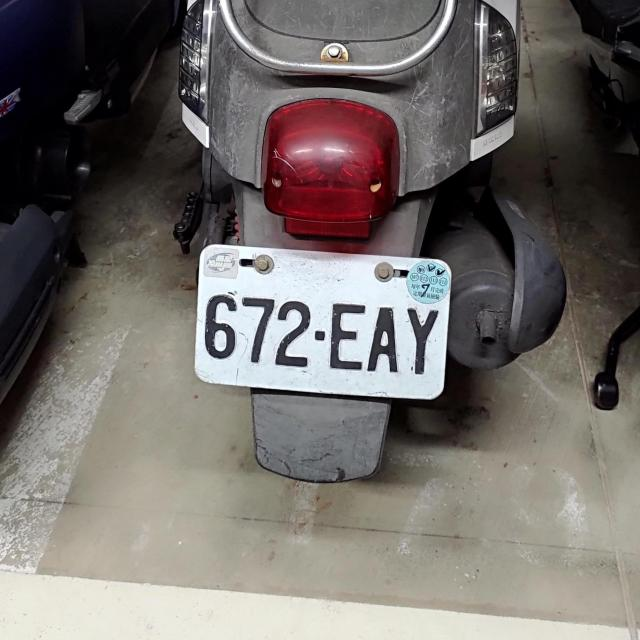W: (188, 240, 455, 398)
